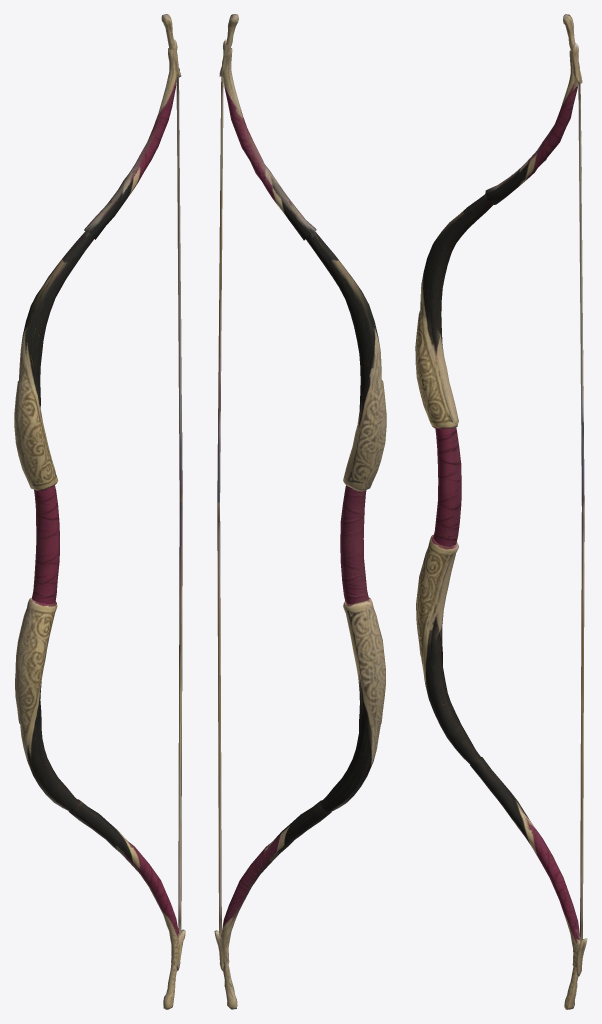
Rendered from prop_bow.glb.
3 views of the same model, side by side, from view 1: azimuth 30°, elevation 25°; view 2: azimuth 150°, elevation 25°; view 3: azimuth 330°, elevation 25° (orthographic).
Size of the model in its own units: 0.1791 by 0.9998 by 0.0347.
1 material, 1 textured.
